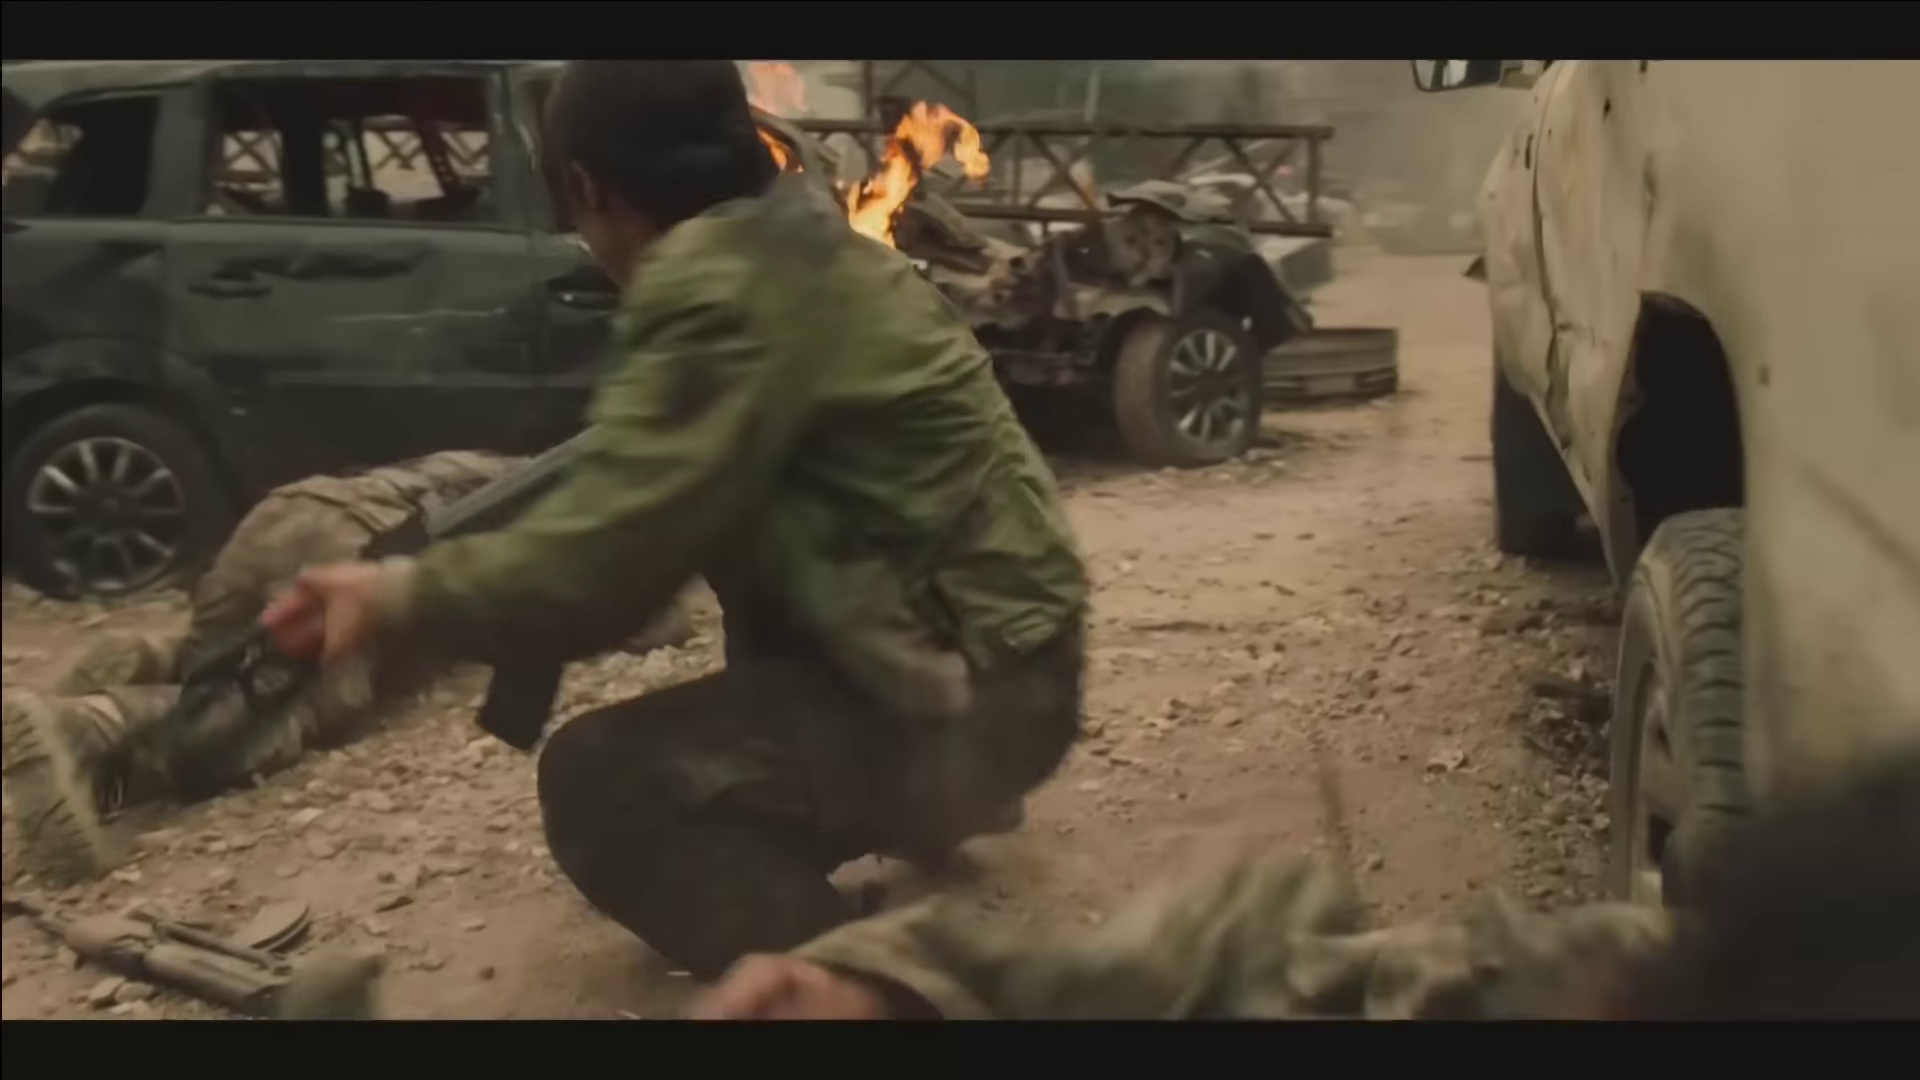gun: (83, 414, 711, 779)
p_w_gun: (111, 66, 1101, 1025)
p_wo_gun_not_carrying_normal_pose: (0, 448, 698, 877)
